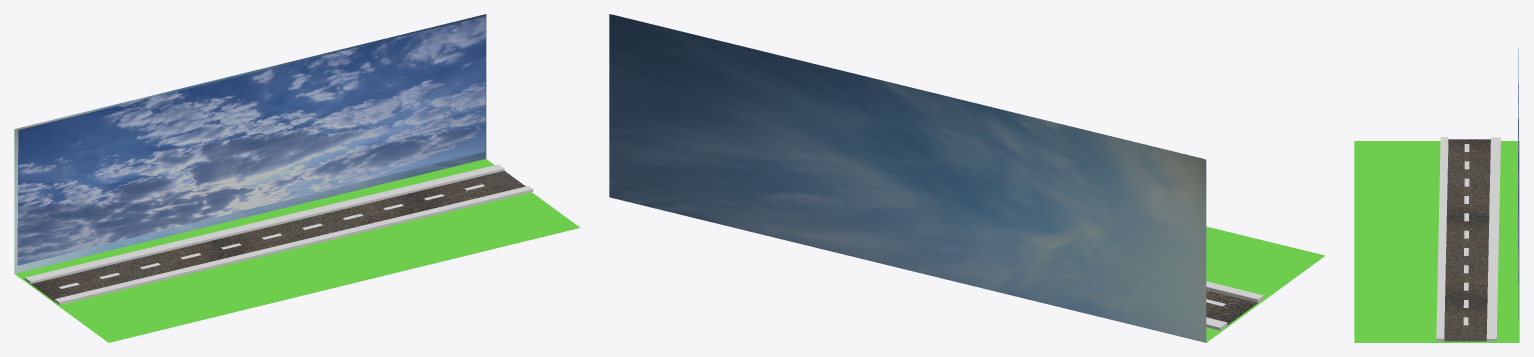
3 views of the same model, side by side, from view 1: azimuth 30°, elevation 25°; view 2: azimuth 150°, elevation 25°; view 3: azimuth 270°, elevation 25° (orthographic). The views are drawn at different scales.
Visible parts, largest first — view 1: clouds, road, street, roadstripes; view 2: road, street; view 3: road, street, roadstripes, clouds.
Part boxes in pixels (x1,y1,x2,y2): clouds: (17, 16, 485, 265); road: (14, 14, 580, 342); street: (24, 164, 533, 304); roadstripes: (59, 184, 484, 288); road: (609, 14, 1324, 342); street: (1206, 281, 1263, 330); road: (1354, 141, 1519, 342); street: (1436, 137, 1500, 341); roadstripes: (1463, 144, 1469, 325); clouds: (1518, 49, 1518, 318).
Bounding box in the file's own units: 116 × 34.07 × 40.21.
Materials: 5 (3 with a texture image).
